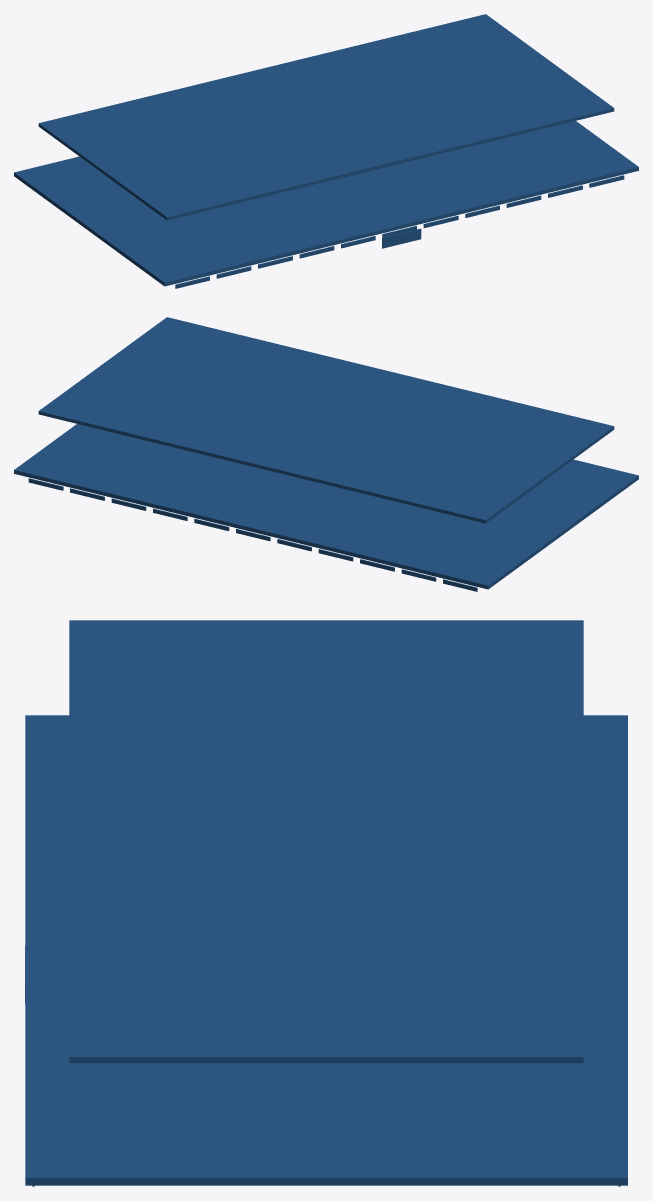
The model's file is SM_10_blue.fbx.
3 views of the same model, one above another, from view 1: azimuth 30°, elevation 25°; view 2: azimuth 150°, elevation 25°; view 3: azimuth 270°, elevation 25° (orthographic). The views are drawn at different scales.
Parts seen in each view (by area): view 1: blue; view 2: blue; view 3: blue.
Part boxes in pixels (x1,y1,x2,y2): blue: (14, 14, 638, 288); blue: (14, 317, 638, 591); blue: (25, 620, 627, 1186).
Size of the model in its own units: 4580 by 2521 by 674.
